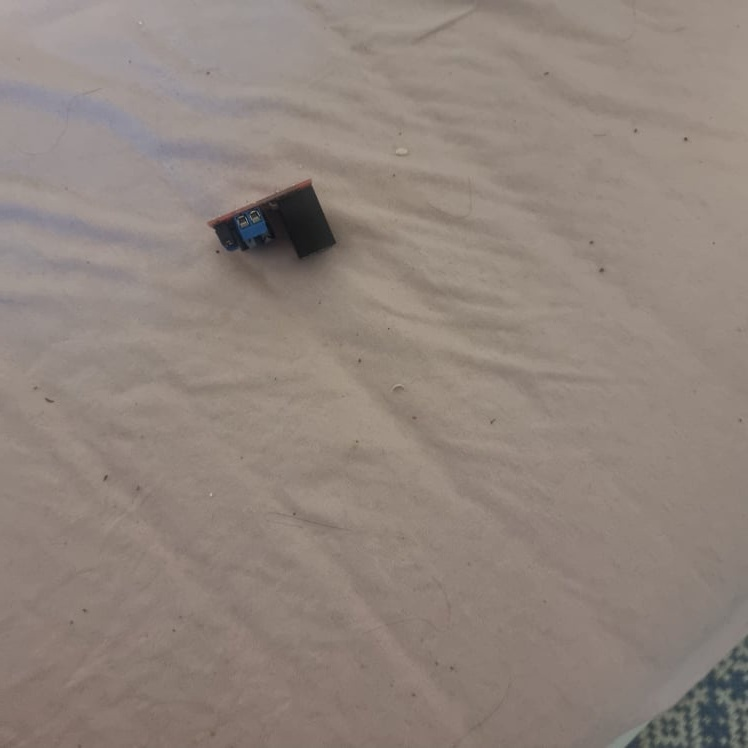MOTOR: (202, 177, 340, 266)
